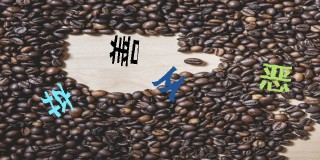从: (154, 66, 186, 102)
善: (108, 33, 140, 66)
弃: (40, 82, 74, 118)
恶: (259, 60, 293, 95)
